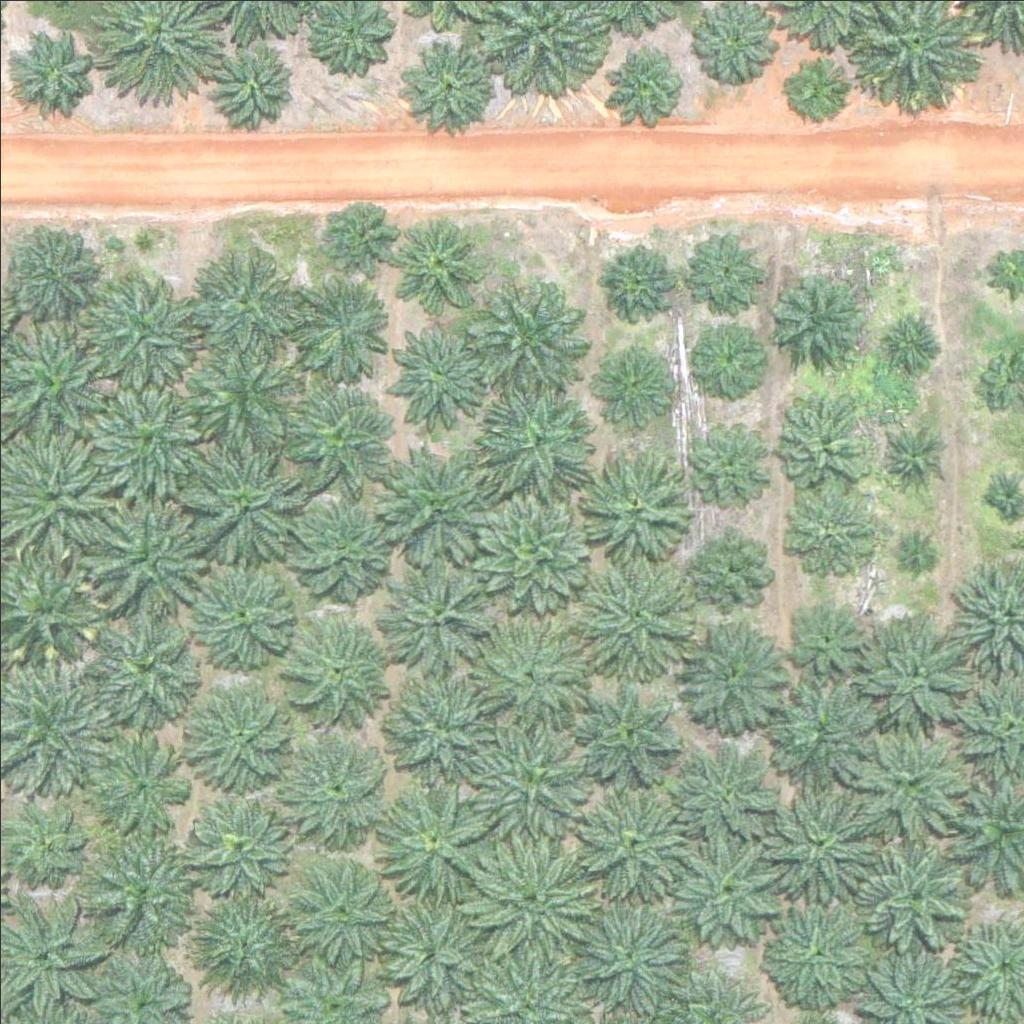Kelapa_Sawit: (82, 593, 207, 719), (469, 840, 594, 965), (187, 239, 300, 352), (185, 342, 298, 455), (181, 454, 294, 567), (282, 733, 395, 846), (283, 388, 396, 501), (373, 783, 486, 896), (383, 678, 496, 791), (386, 560, 499, 673), (473, 286, 586, 399), (583, 454, 696, 567), (680, 614, 793, 727), (762, 786, 875, 899), (776, 685, 889, 798), (287, 856, 400, 969), (373, 897, 486, 1010), (665, 834, 778, 947), (863, 624, 975, 738), (93, 841, 205, 955), (188, 890, 300, 1004), (88, 501, 200, 614), (89, 386, 201, 499), (86, 271, 198, 384), (181, 570, 293, 683), (185, 683, 297, 796), (378, 456, 490, 569), (382, 310, 494, 423), (475, 729, 587, 842), (477, 620, 589, 733), (479, 501, 591, 614), (483, 386, 595, 499), (581, 564, 693, 677), (852, 727, 964, 840), (576, 903, 688, 1016), (577, 791, 689, 904), (857, 837, 969, 950), (396, 32, 496, 133), (282, 626, 382, 727), (291, 502, 391, 603), (290, 280, 390, 381), (579, 679, 679, 780), (770, 267, 870, 368), (767, 901, 867, 1002), (91, 738, 191, 838), (188, 797, 288, 897), (398, 223, 486, 311), (787, 489, 875, 577), (779, 395, 867, 483), (601, 37, 688, 125), (594, 342, 681, 430), (683, 745, 770, 833), (692, 531, 767, 607), (21, 27, 96, 103), (214, 40, 289, 116), (9, 812, 84, 888), (598, 238, 673, 314), (690, 416, 765, 492), (687, 234, 762, 310), (794, 598, 869, 674), (702, 324, 765, 387), (878, 306, 941, 369), (781, 59, 844, 122), (328, 207, 391, 270), (888, 434, 938, 484), (892, 535, 930, 573)
